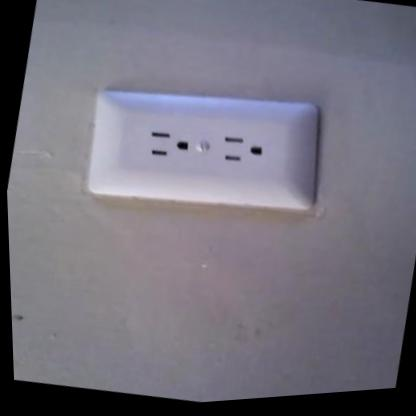OUTLET: (81, 63, 321, 231)
